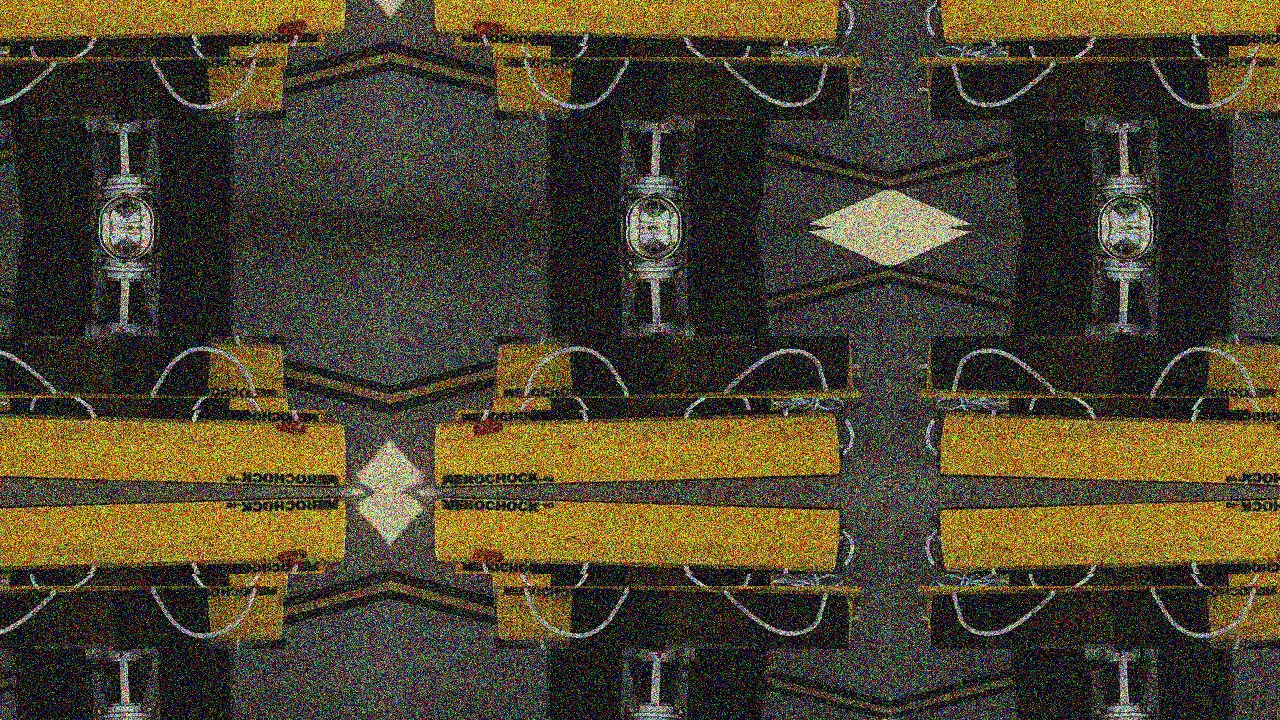chock: (430, 410, 843, 488), (430, 497, 843, 575), (0, 410, 350, 488), (0, 497, 350, 575), (937, 410, 1280, 488), (937, 497, 1280, 575), (494, 57, 861, 120), (494, 586, 861, 649), (494, 336, 861, 398), (919, 57, 1280, 120), (919, 586, 1280, 649), (919, 336, 1280, 398), (473, 504, 797, 566), (473, 419, 797, 480), (0, 504, 307, 566), (0, 419, 307, 480), (430, 0, 843, 45), (983, 504, 1280, 566), (983, 419, 1280, 480), (0, 57, 286, 120), (0, 586, 286, 649), (0, 336, 286, 398), (0, 0, 350, 45), (937, 0, 1280, 45), (490, 379, 781, 429), (490, 556, 781, 606), (0, 379, 290, 429), (0, 556, 290, 606), (490, 27, 781, 76), (0, 27, 290, 76), (999, 379, 1280, 429), (999, 556, 1280, 606), (999, 27, 1280, 76), (473, 0, 797, 37), (0, 0, 307, 37), (983, 0, 1280, 37)
wheel: (10, 32, 94, 228), (686, 32, 770, 228), (1010, 32, 1094, 228), (10, 228, 94, 423), (686, 228, 770, 423), (1010, 228, 1094, 423), (157, 27, 235, 226), (545, 27, 623, 226), (1157, 27, 1235, 226), (157, 229, 235, 428), (545, 229, 623, 428), (1157, 229, 1235, 428), (10, 562, 94, 720), (686, 562, 770, 720), (1010, 562, 1094, 720), (157, 556, 235, 720), (545, 556, 623, 720), (1157, 556, 1235, 720)
